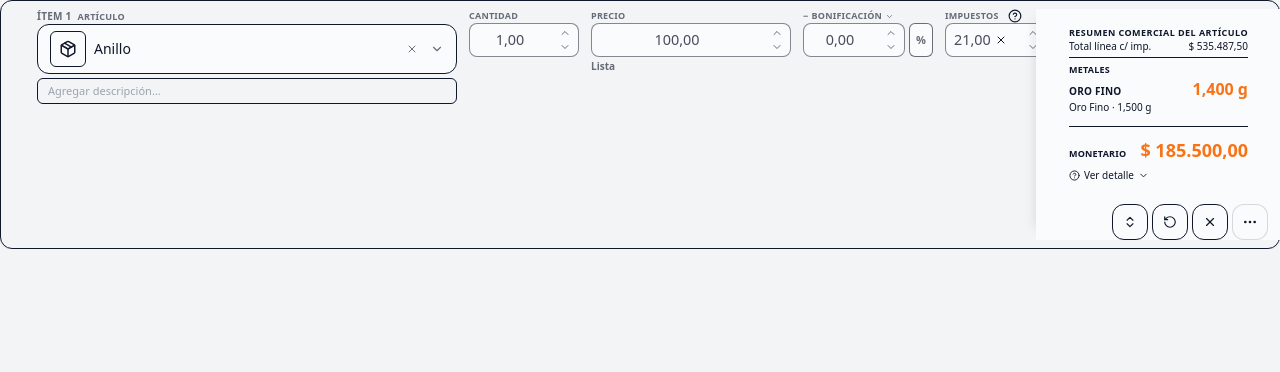
FASE 1 — Resumen Comercial lee lineCommercialSummary › BREAKDOWN: MONETARIO visible colapsado; 'Redondeo comercial' OCULTO en cerrado, VISIBLE al desplegar
Expected: the text "$ 185.500,00" is shown, left=1140, top=138, right=1248, bottom=161
Note: DESPLEGADO: aparece "Redondeo comercial + 24,79".
Click the button "Ver detalle" at [1109, 175], box left=1069, top=169, right=1149, bottom=182
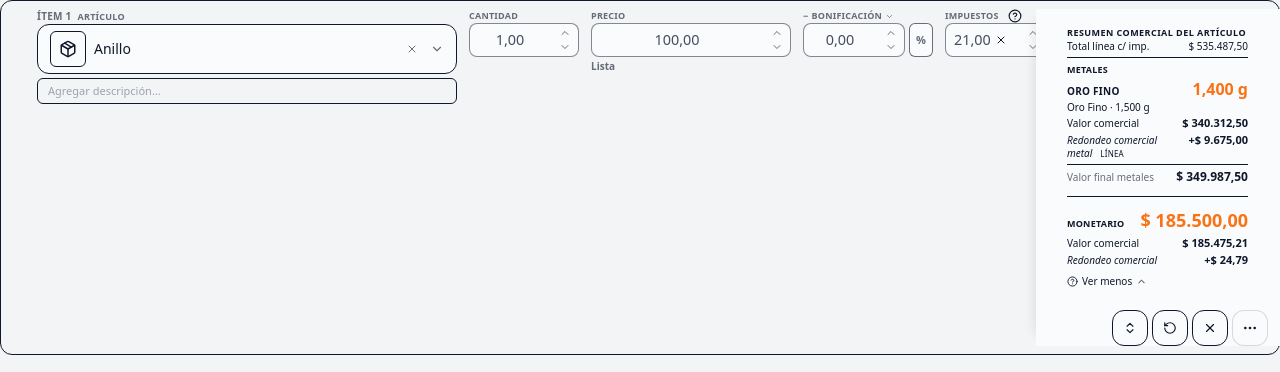
Result: the element showing "Redondeo comercial +$ 24,79" is shown at left=1067, top=253, right=1248, bottom=267
